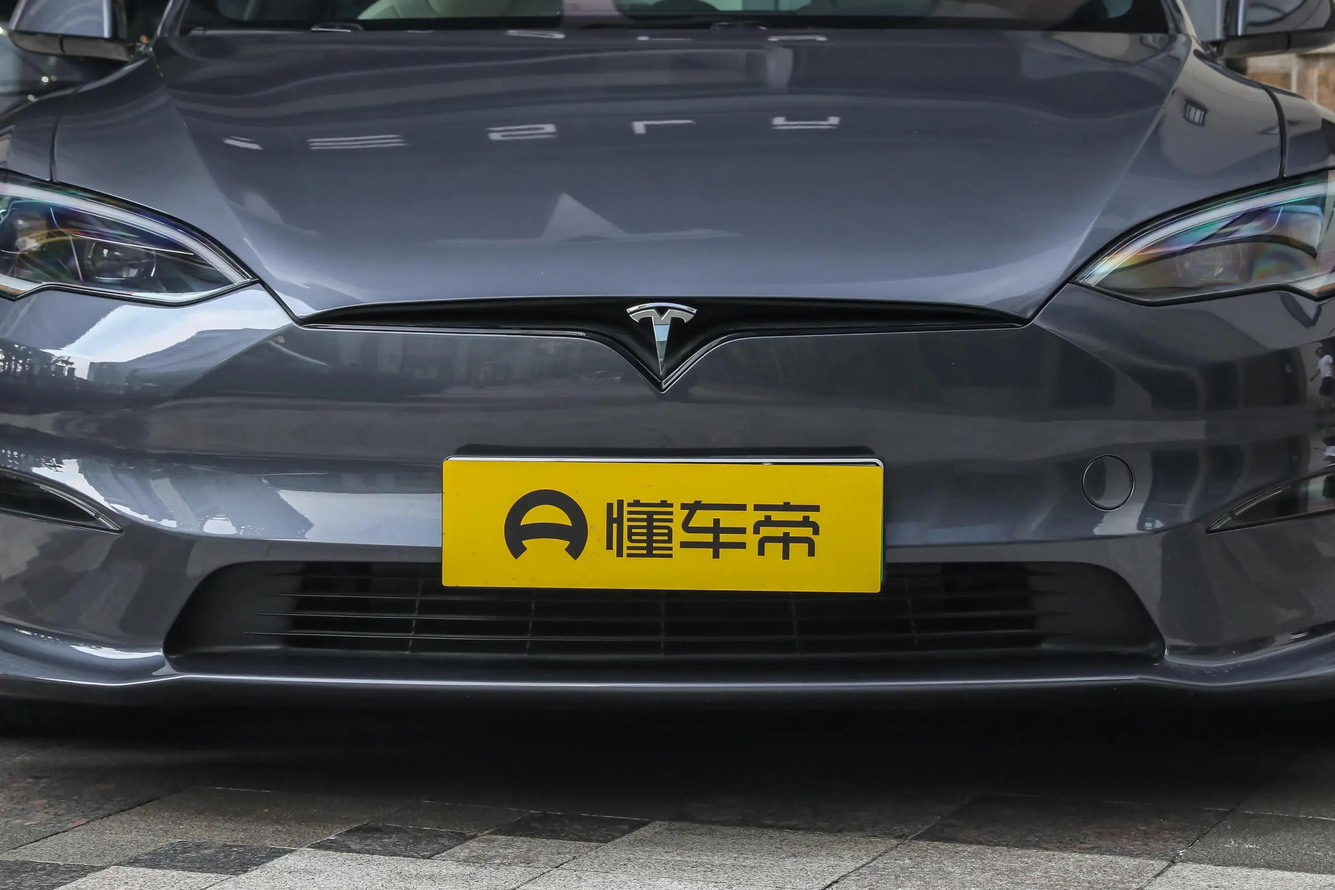Tesla: (625, 301, 698, 376)
